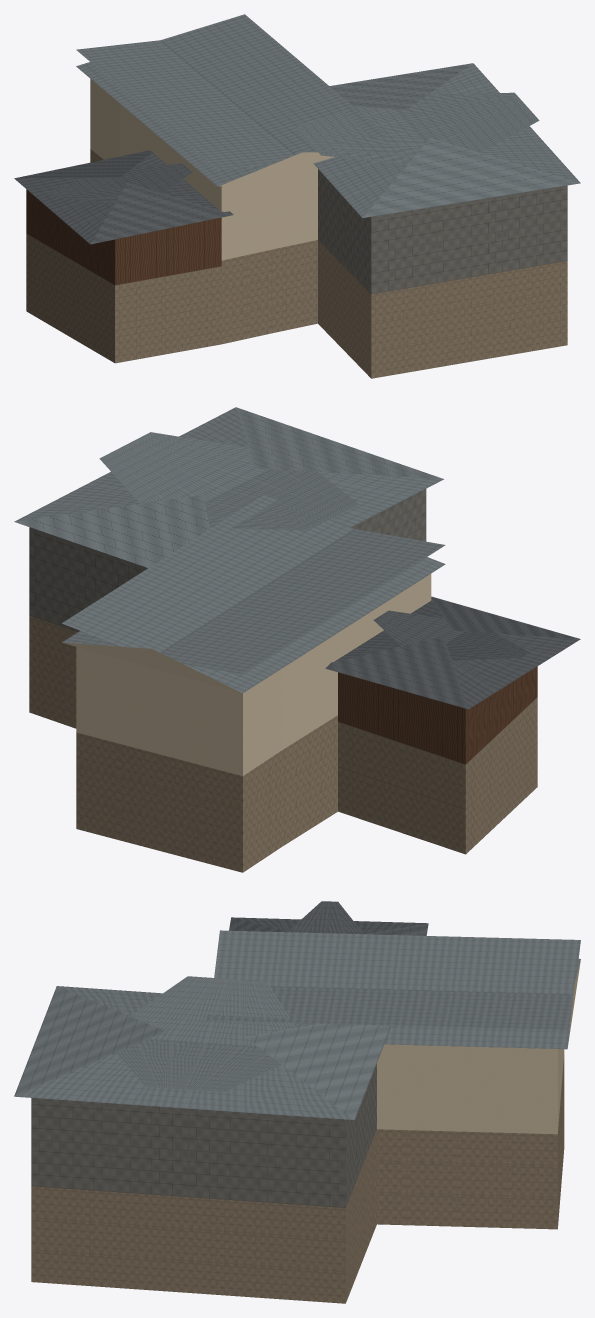
File: bld_c41_33_279.gltf
3 renders of one model, top to bottom at view 1: azimuth 30°, elevation 25°; view 2: azimuth 150°, elevation 25°; view 3: azimuth 270°, elevation 25°, orthographic. The views are drawn at different scales.
Parts seen in each view (by area): view 1: bld_c41_33_279; view 2: bld_c41_33_279; view 3: bld_c41_33_279.
Part boxes in pixels (x1,y1,x2,y2): bld_c41_33_279: (14,14,580,378); bld_c41_33_279: (14,407,580,872); bld_c41_33_279: (14,901,580,1303).
Size of the model in its own units: 27.57 by 11 by 27.25.
Materials: 7 (7 with a texture image).
